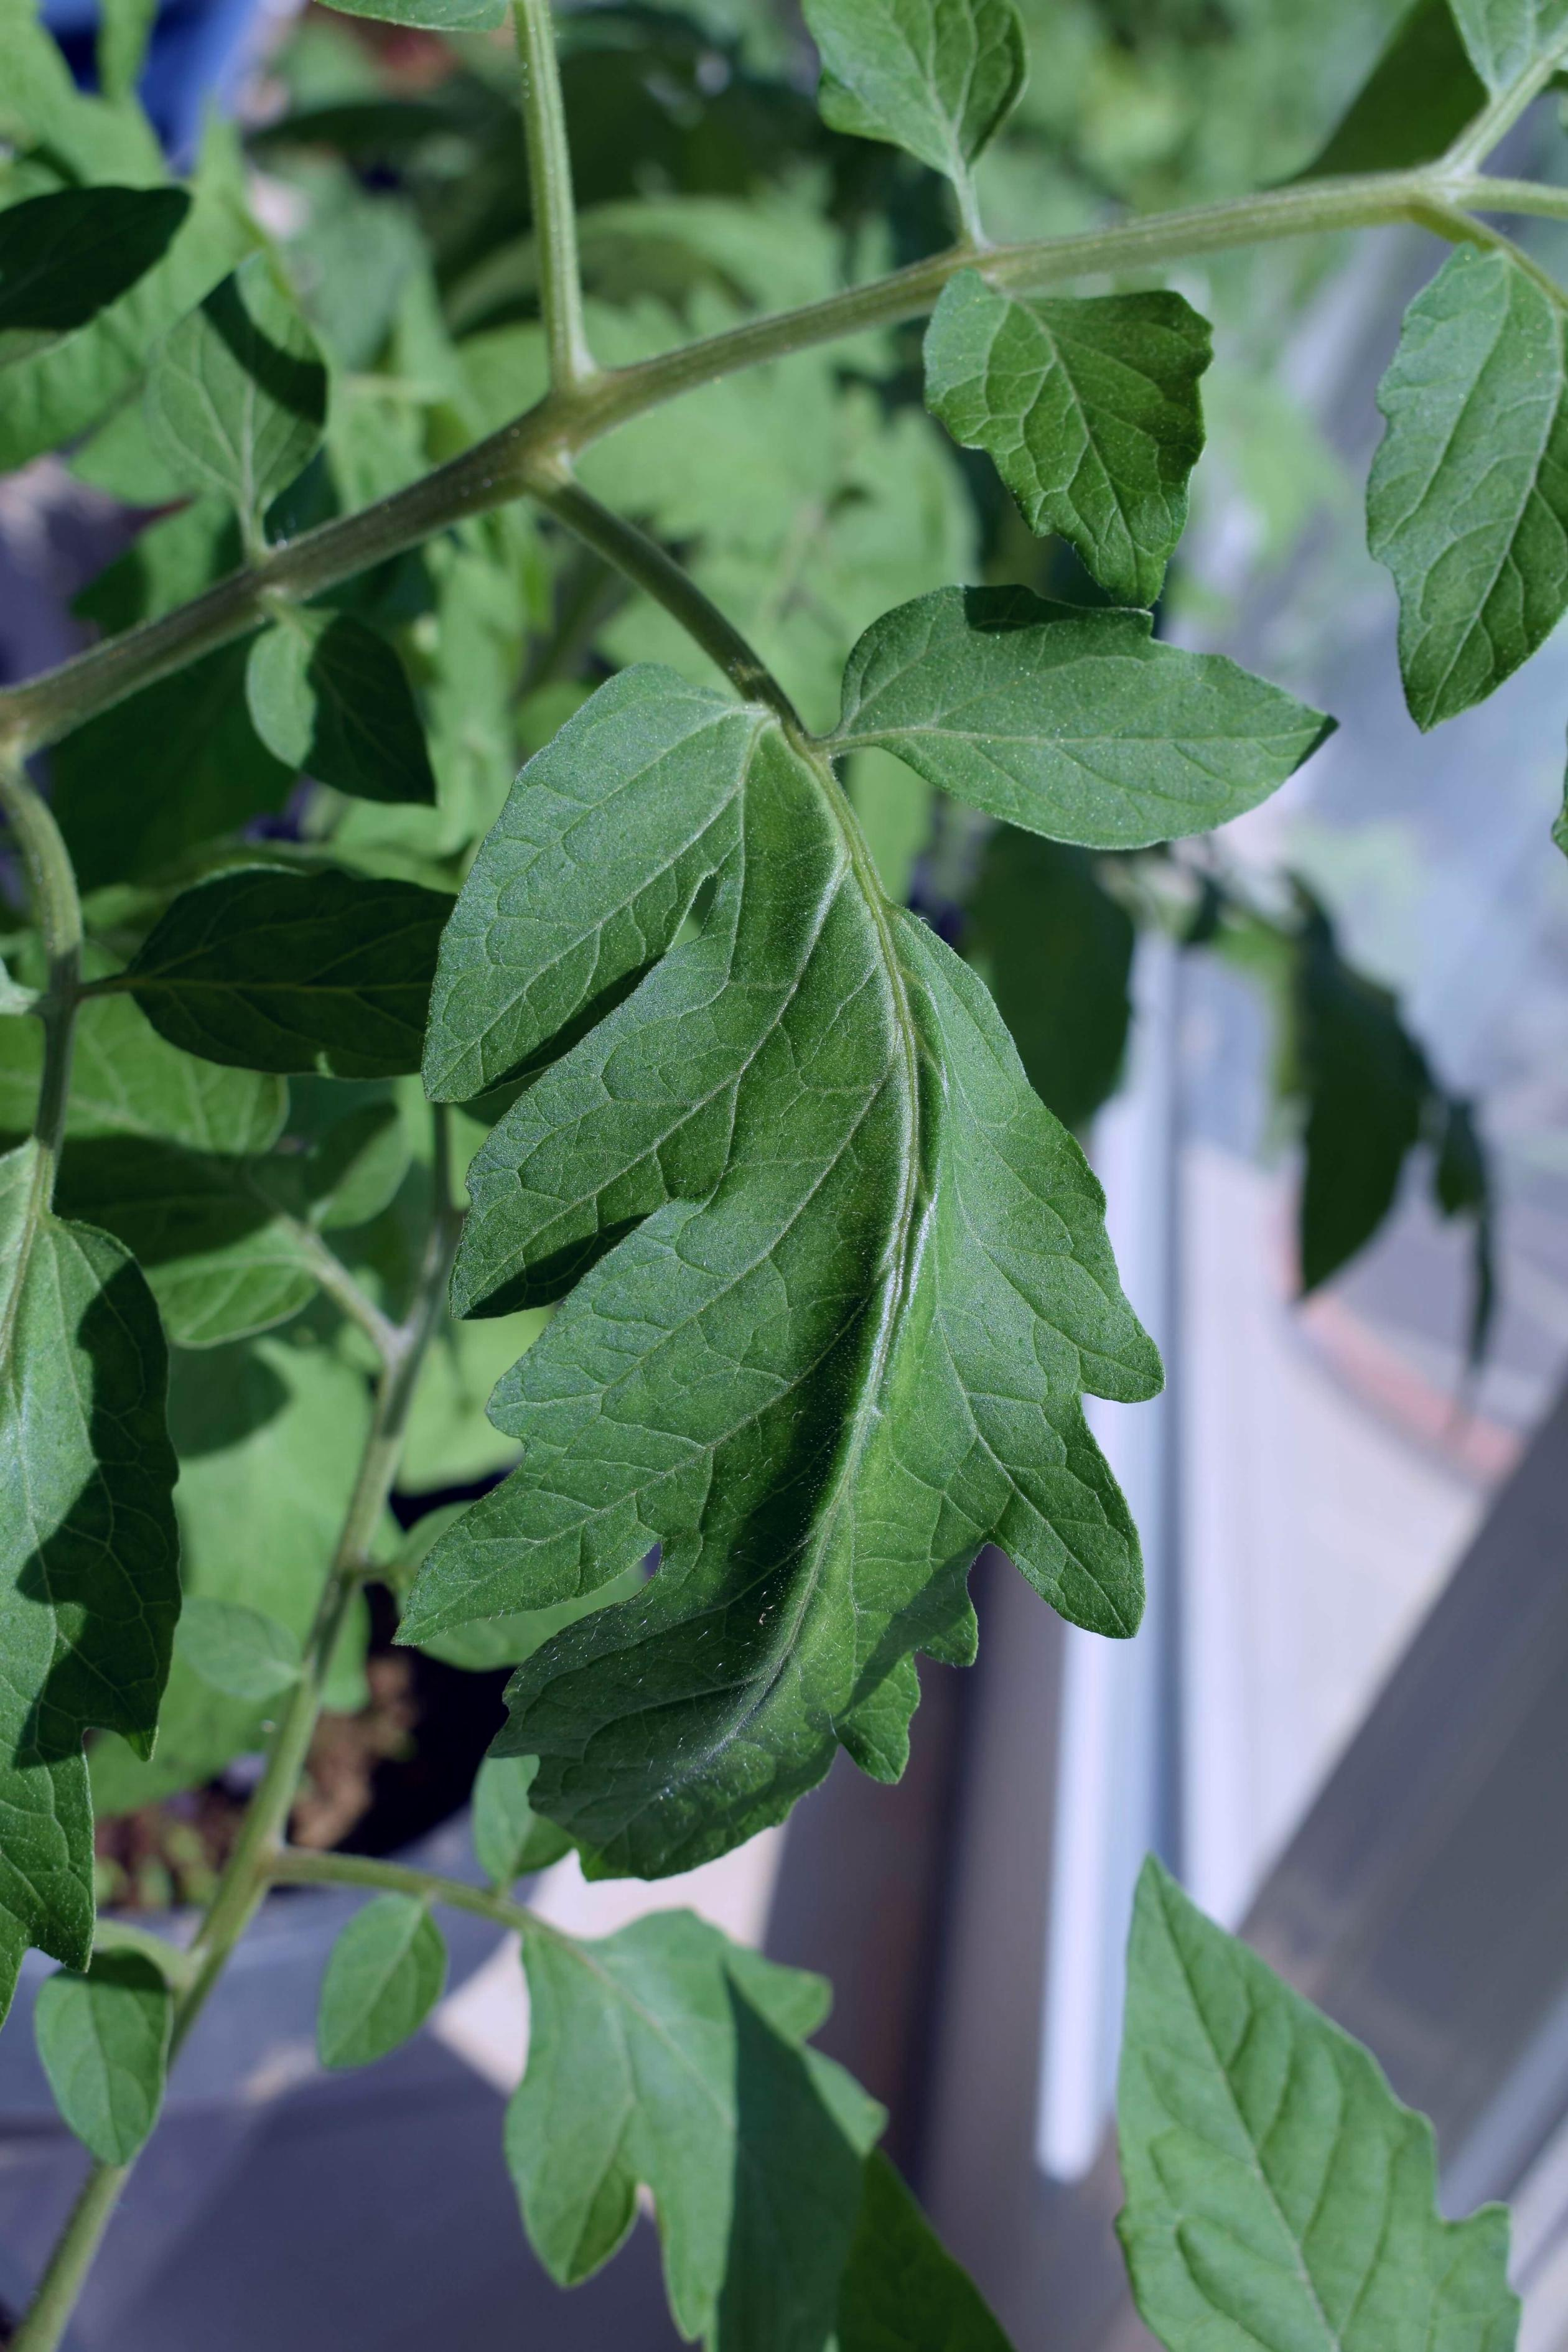Tomato leaf: (308, 619, 1109, 1885), (794, 574, 1309, 882), (847, 222, 1223, 640), (1326, 245, 1563, 815)
